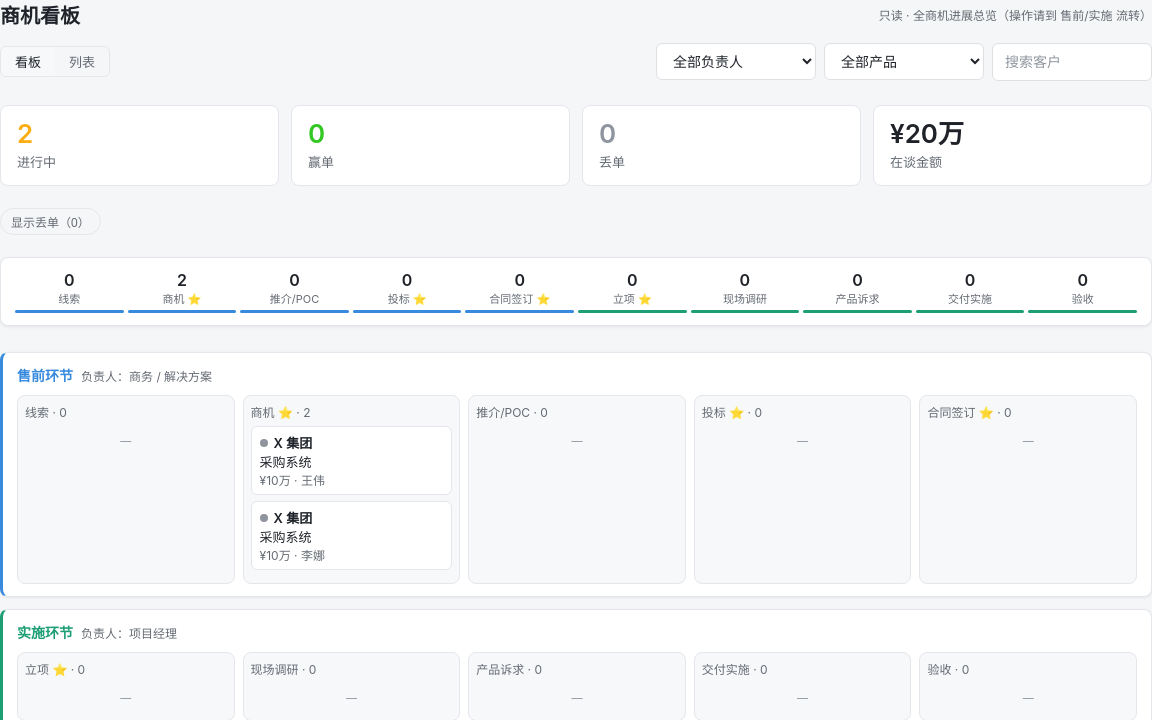
Test: OpportunityBoard (read-only) › filters by owner (TC-OPPB-05)
Expected: the button with test id "opp-card-8" is shown, [251, 501, 452, 570]
Step 1. Select "王伟" in the dropdown with test id "opp-filter-owner" → [736, 62], box [656, 43, 816, 80]
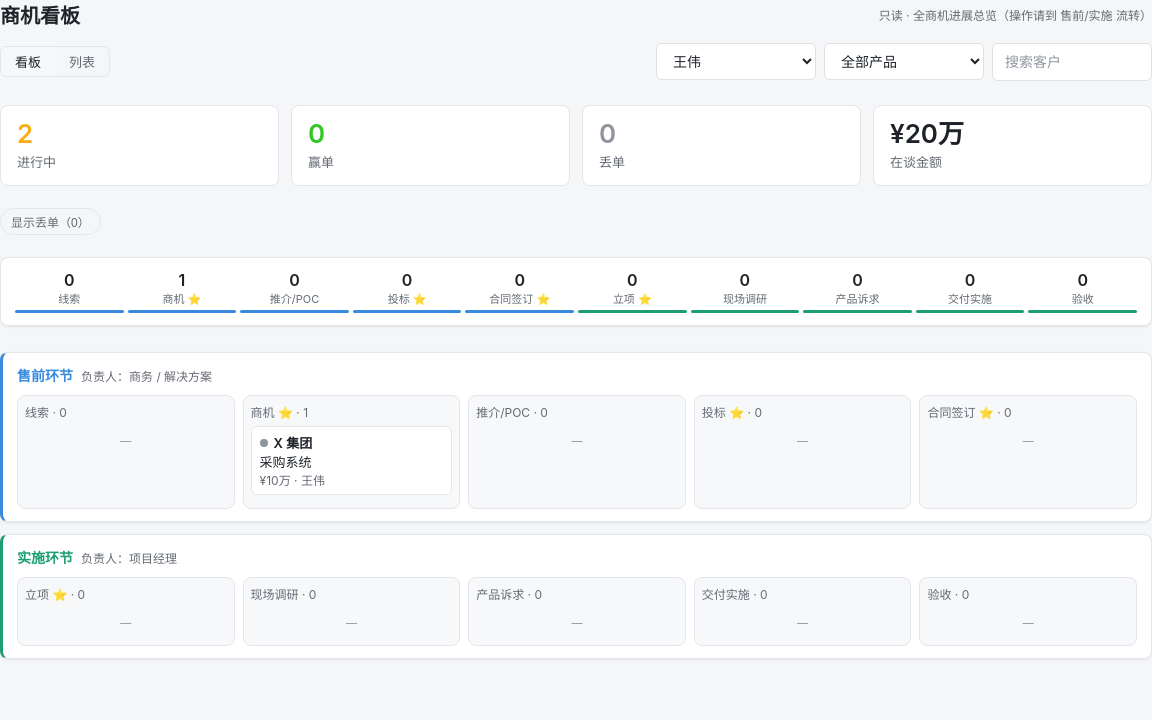
Expected: the button with test id "opp-card-7" is shown, [251, 426, 452, 495]
Expected: the button with test id "opp-card-8" is gone
